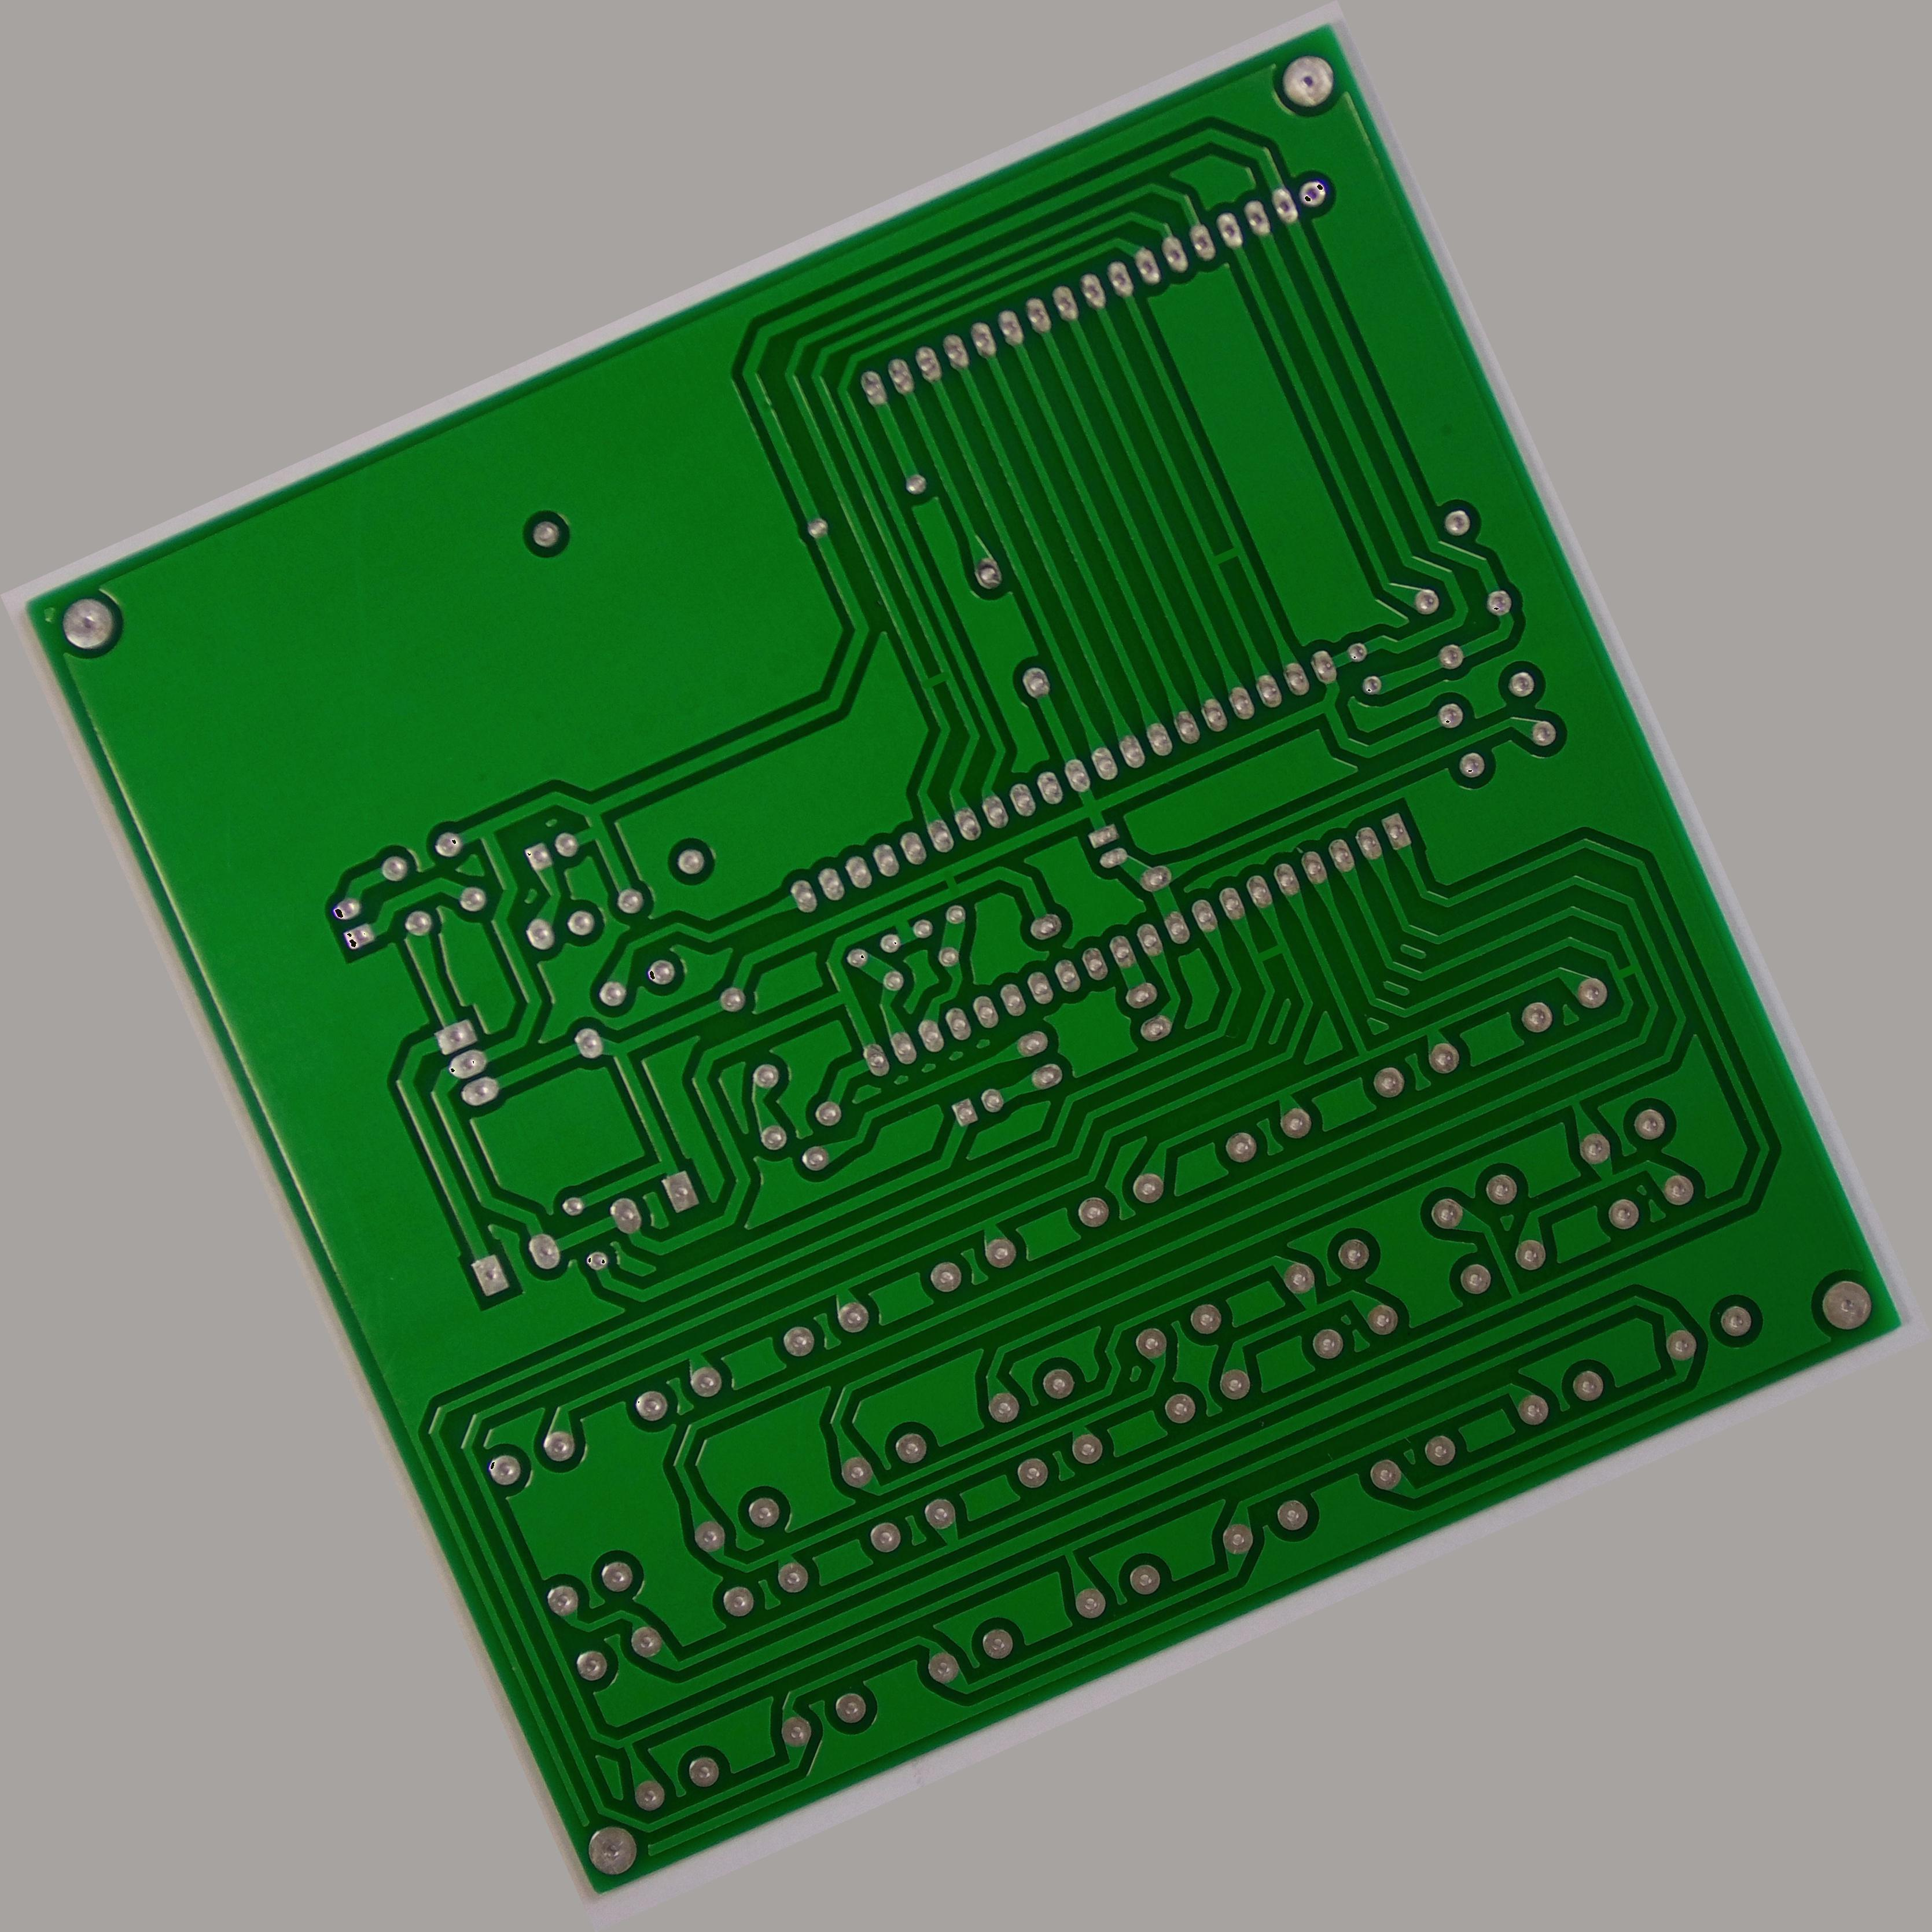short: (1196, 527, 1260, 586), (1240, 931, 1299, 977), (925, 856, 975, 906), (909, 656, 962, 702), (1601, 950, 1649, 994)
